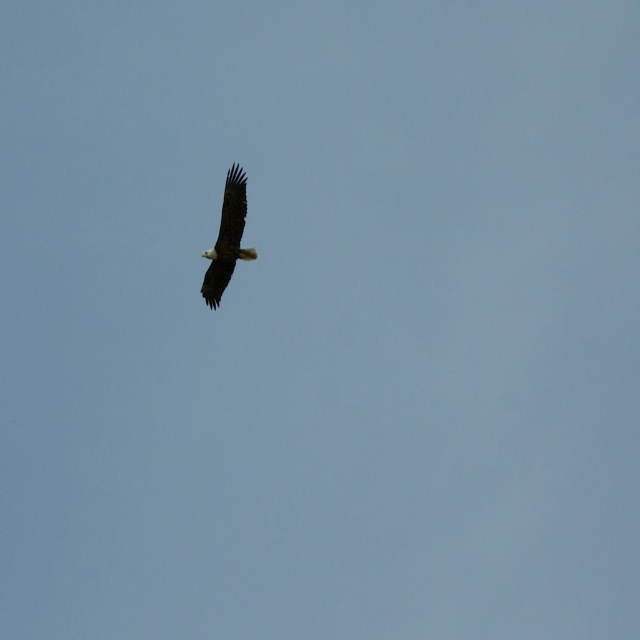Eagle: (195, 158, 264, 315)
